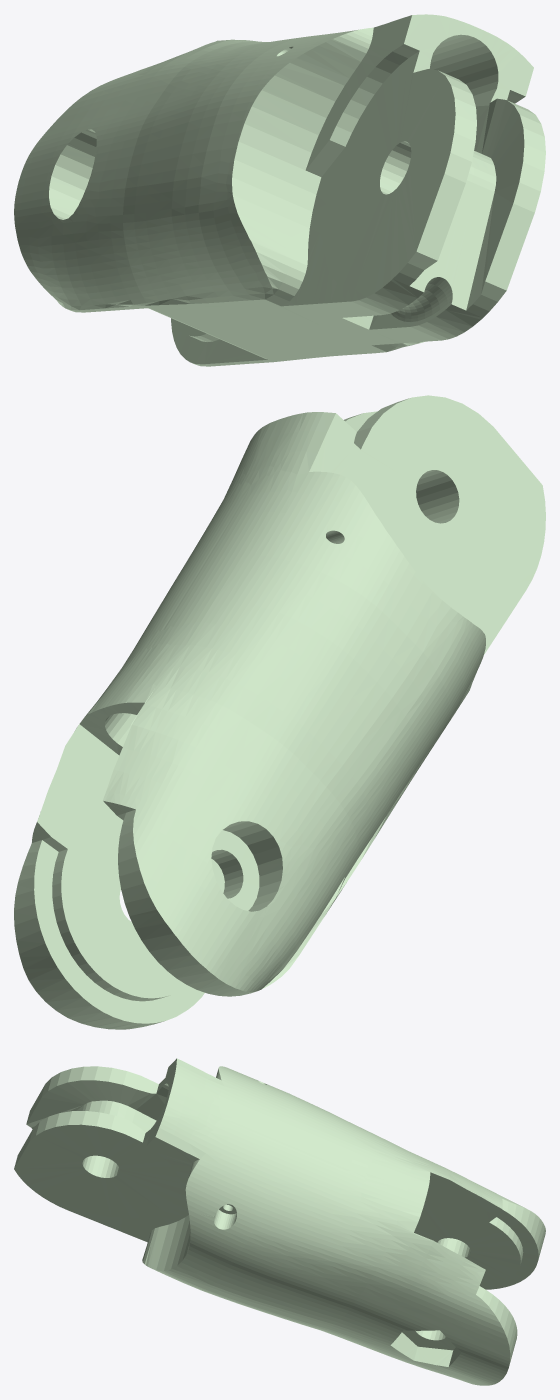
File: i02_leftHand_majeurePhal_visual.obj.full.glb
The picture shows the model from 3 angles, top to bottom: view 1: azimuth 30°, elevation 25°; view 2: azimuth 150°, elevation 25°; view 3: azimuth 270°, elevation 25°; orthographic projection. The views are drawn at different scales.
Bounding box in the file's own units: 0.2039 × 0.3366 × 0.5012.
